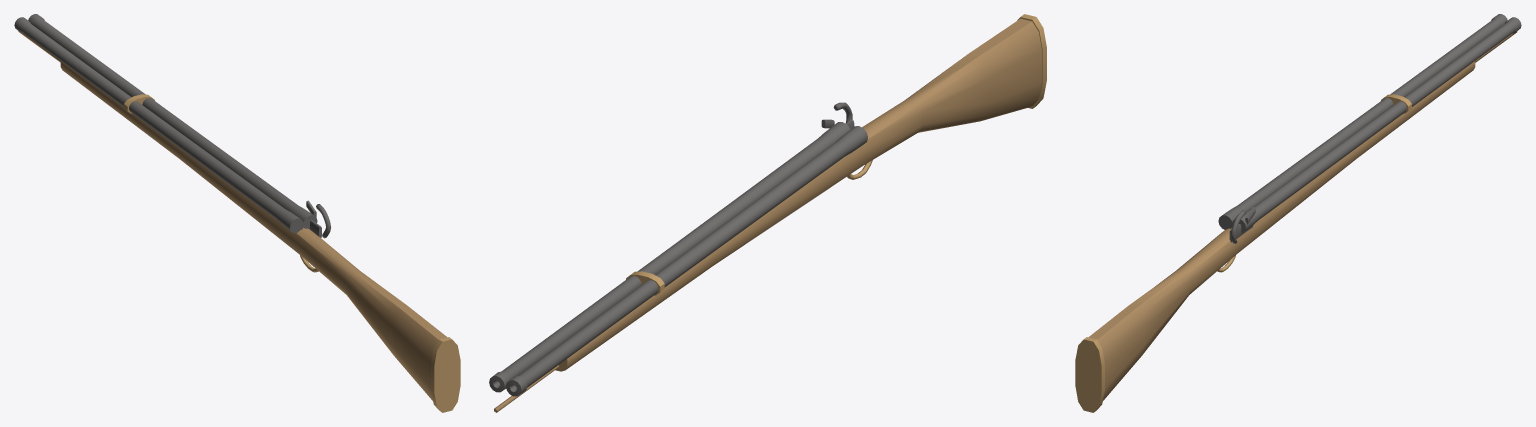
The model's file is double-barreled-musket.glb.
3 views of the same model, side by side, from view 1: azimuth 30°, elevation 25°; view 2: azimuth 150°, elevation 25°; view 3: azimuth 330°, elevation 25° (orthographic). The views are drawn at different scales.
Parts seen in each view (by area): view 1: double-barreled-musket; view 2: double-barreled-musket; view 3: double-barreled-musket.
Part boxes in pixels (x1,y1,x2,y2): double-barreled-musket: (14,14,460,412); double-barreled-musket: (489,14,1046,412); double-barreled-musket: (1075,14,1521,412).
Size of the model in its own units: 0.1126 by 0.3721 by 2.86.
